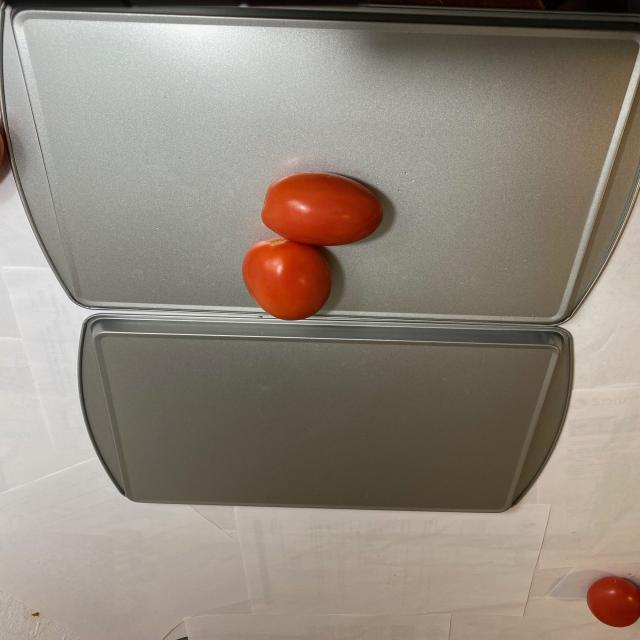tomato: (238, 172, 383, 322), (582, 570, 640, 628)
